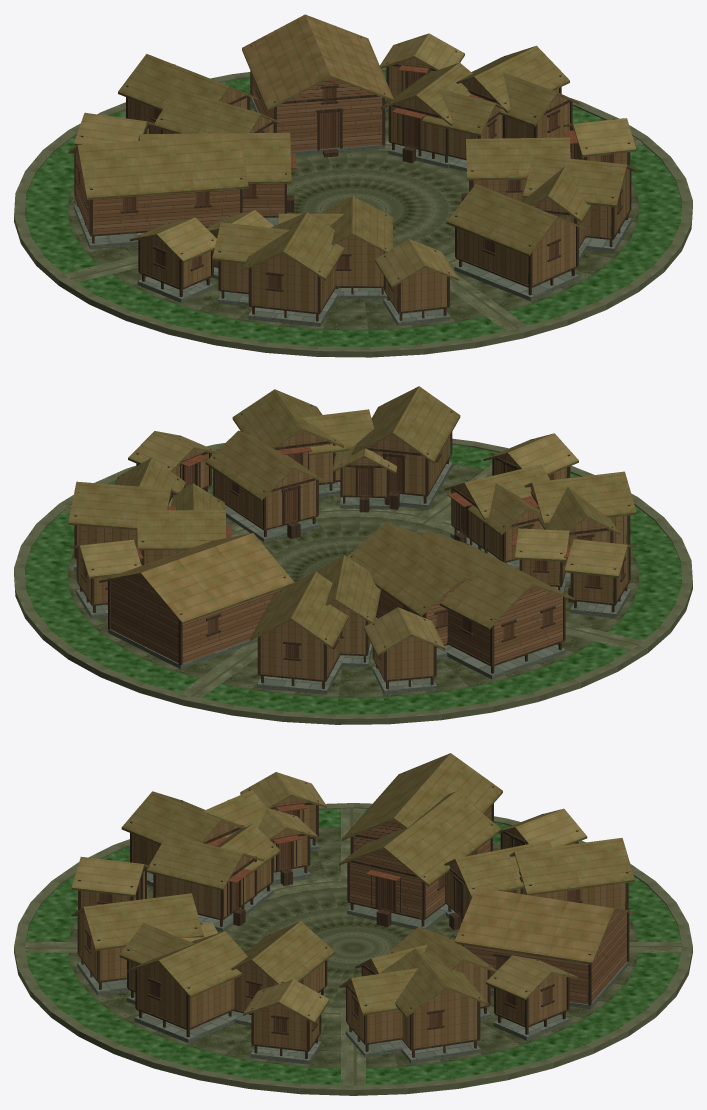
Rendered from village_small_lod0.glb.
The picture shows the model from 3 angles, top to bottom: view 1: azimuth 30°, elevation 25°; view 2: azimuth 150°, elevation 25°; view 3: azimuth 270°, elevation 25°; orthographic projection.
Visible parts, largest first — view 1: ae_jungle_village_small_lod0; view 2: ae_jungle_village_small_lod0; view 3: ae_jungle_village_small_lod0.
Boxes of the visible parts, box(x1,y1,x2,y2) form: ae_jungle_village_small_lod0: box(14, 14, 692, 357); ae_jungle_village_small_lod0: box(14, 386, 692, 724); ae_jungle_village_small_lod0: box(14, 753, 692, 1095).
Bounding box in the file's own units: 1.9 × 0.2738 × 1.9.
Materials: 1 (1 with a texture image).
